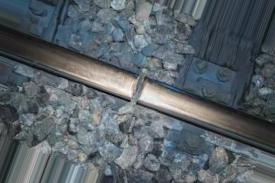tracks_fault: (124, 70, 156, 112)
